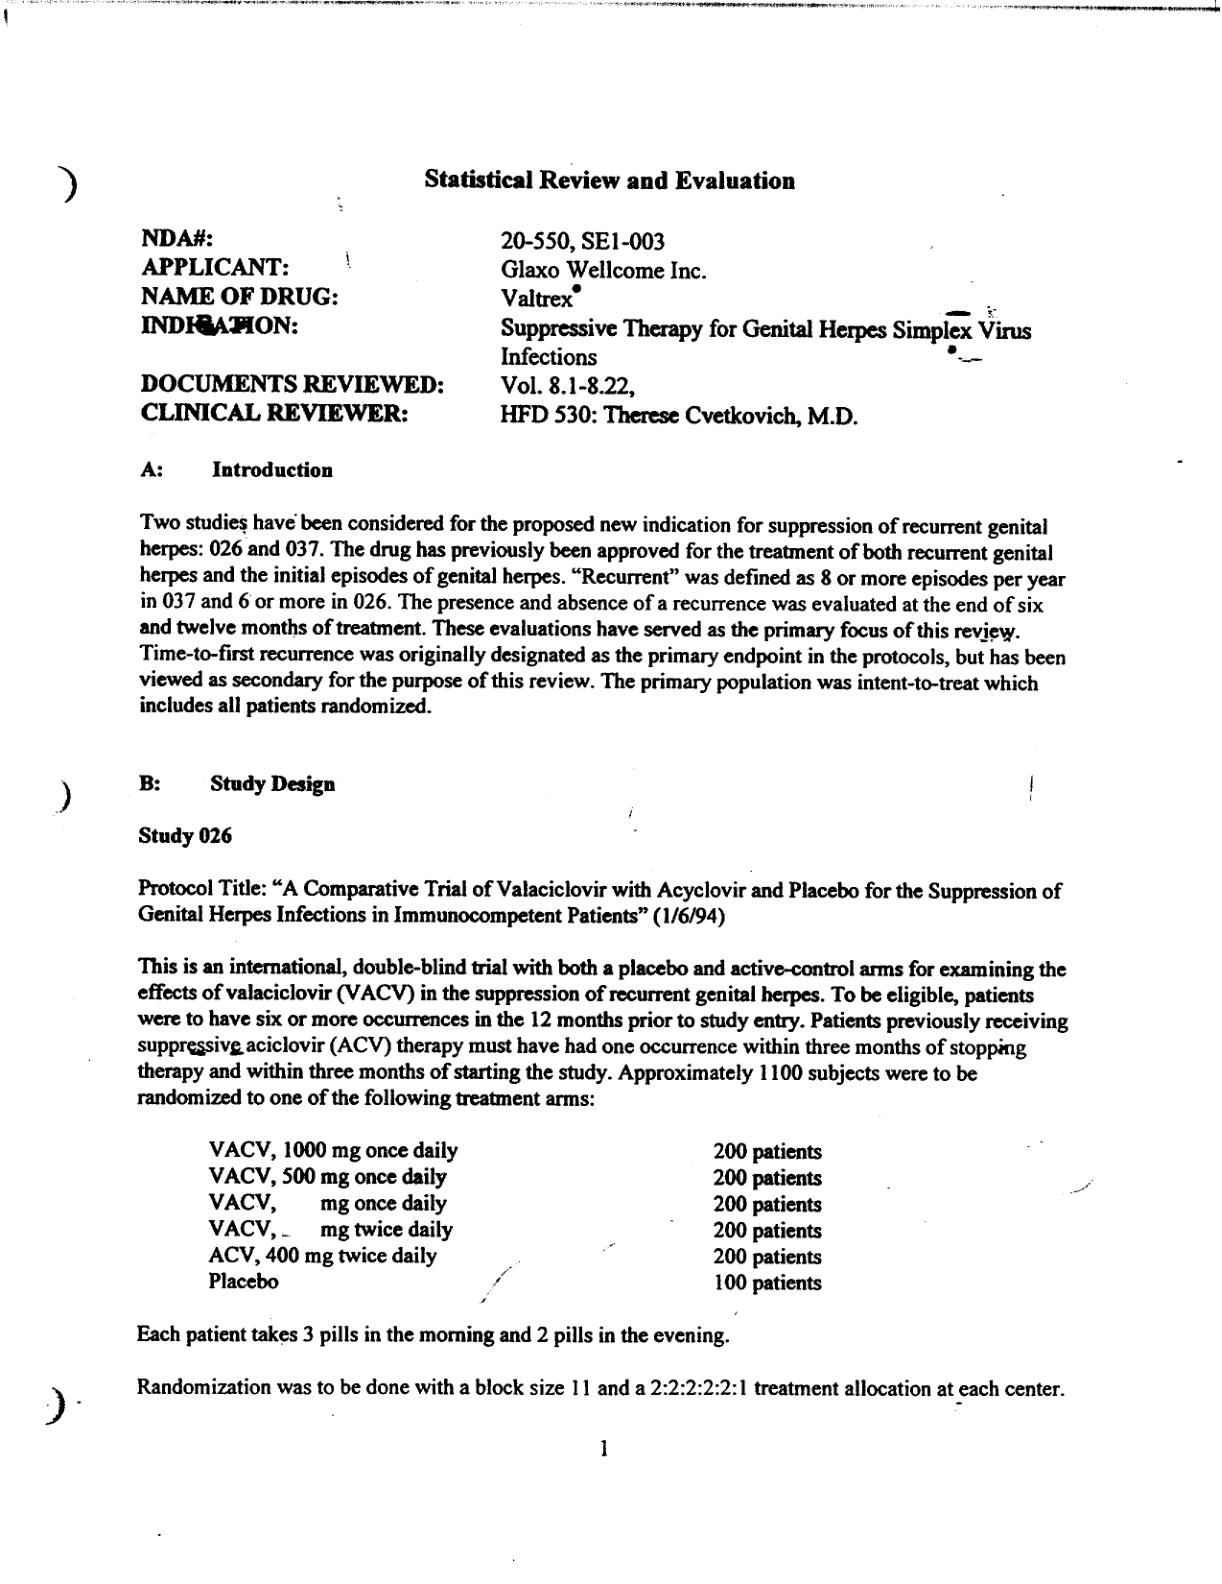nolines: (139, 223, 1035, 424), (205, 1136, 825, 1295)
